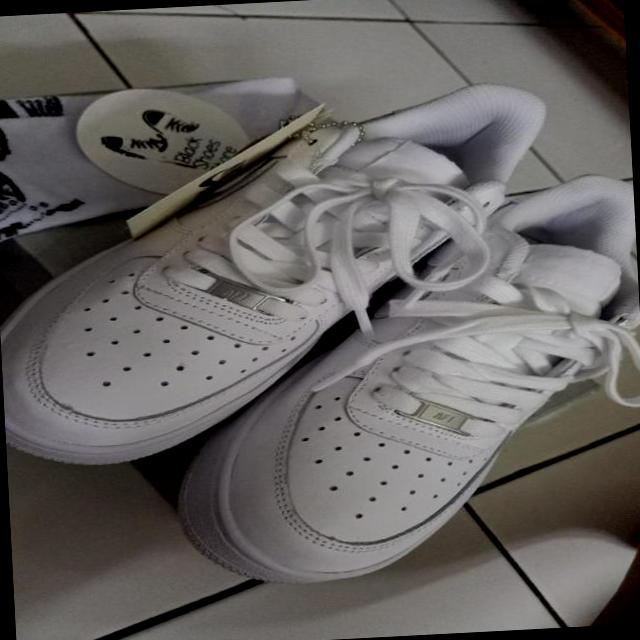nike_fake_airforce: (0, 76, 602, 473), (159, 168, 640, 592)
